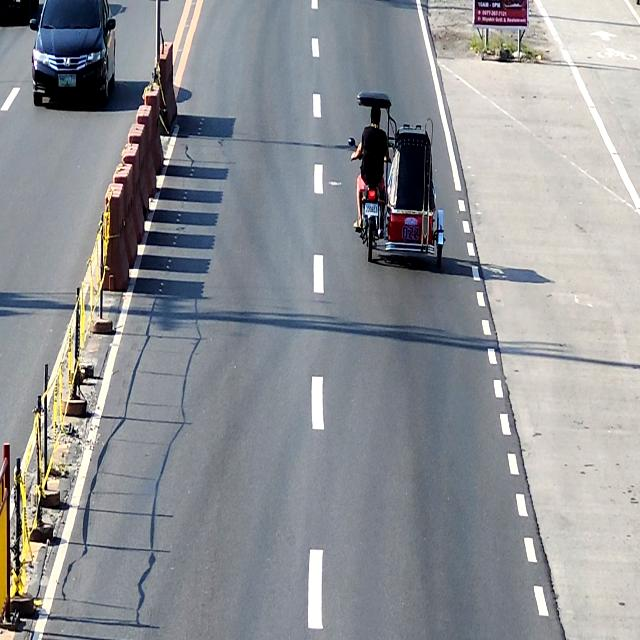Car: (30, 0, 116, 103)
License-Plate: (58, 75, 76, 86), (365, 203, 379, 216)
Tricycle: (348, 91, 447, 266)
